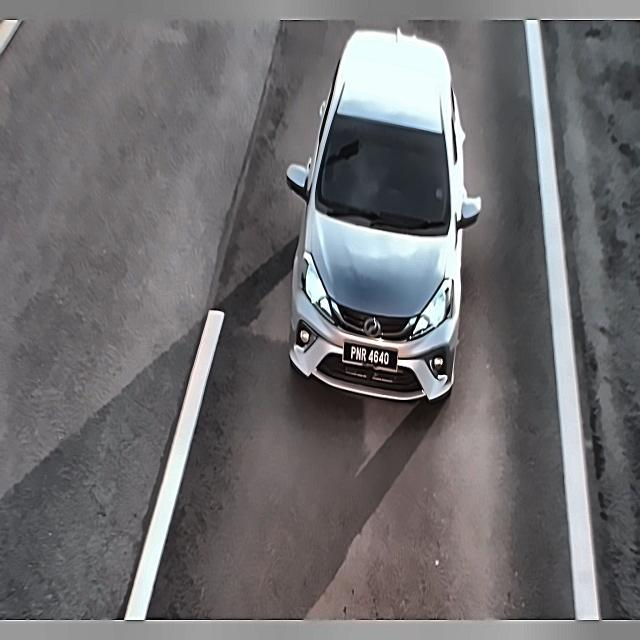car: (340, 336, 402, 377)
